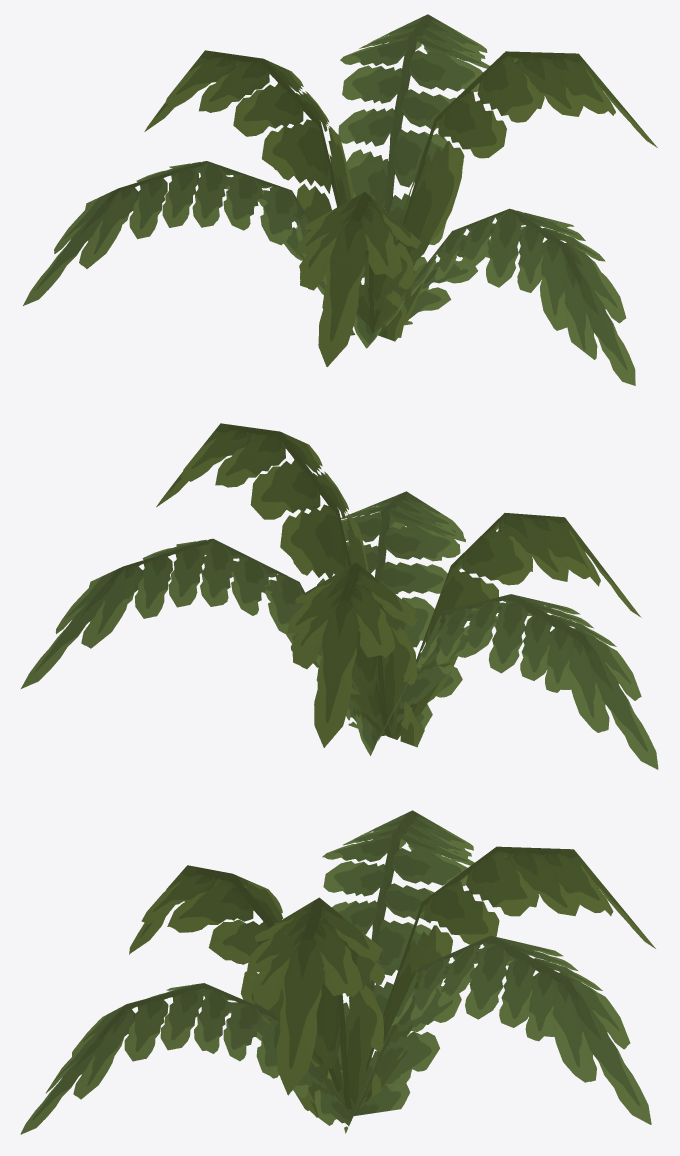
Rendered from SM_Env_Fern_01.fbx.
3 renders of one model, top to bottom at view 1: azimuth 30°, elevation 25°; view 2: azimuth 150°, elevation 25°; view 3: azimuth 270°, elevation 25°, orthographic. The views are drawn at different scales.
Visible parts, largest first — view 1: SM_Env_Fern_01_LOD0; view 2: SM_Env_Fern_01_LOD0; view 3: SM_Env_Fern_01_LOD0.
Boxes of the visible parts, x1,y1,x2,y2 form: SM_Env_Fern_01_LOD0: (23,14,657,385); SM_Env_Fern_01_LOD0: (20,423,658,769); SM_Env_Fern_01_LOD0: (20,810,655,1134).
Size of what is drawn, in the model's own units: 139 by 59.86 by 127.
